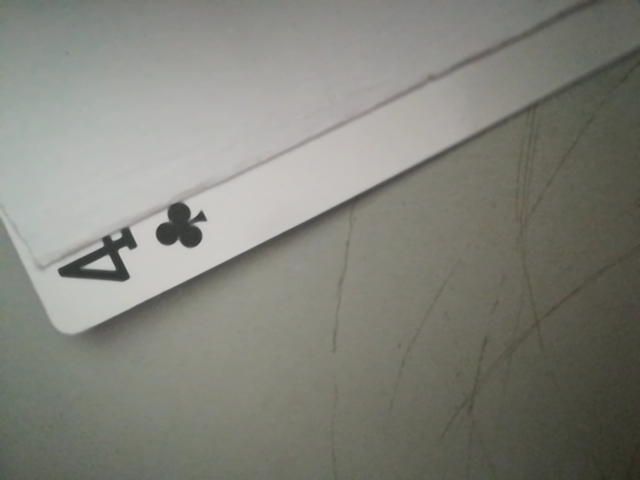mh 4: (36, 194, 223, 303)
